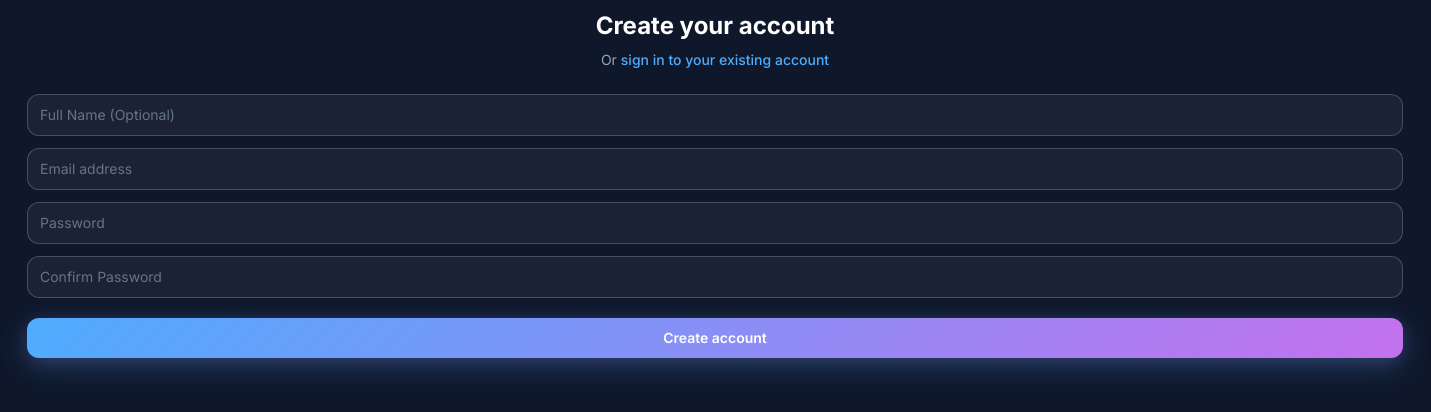
Scenario: Register › shows password mismatch error when passwords do not match
The width and height of the screenshot is (1431, 412).
In the password field with placeholder "Password": (715, 223) [27,202,1403,244], type "password123"
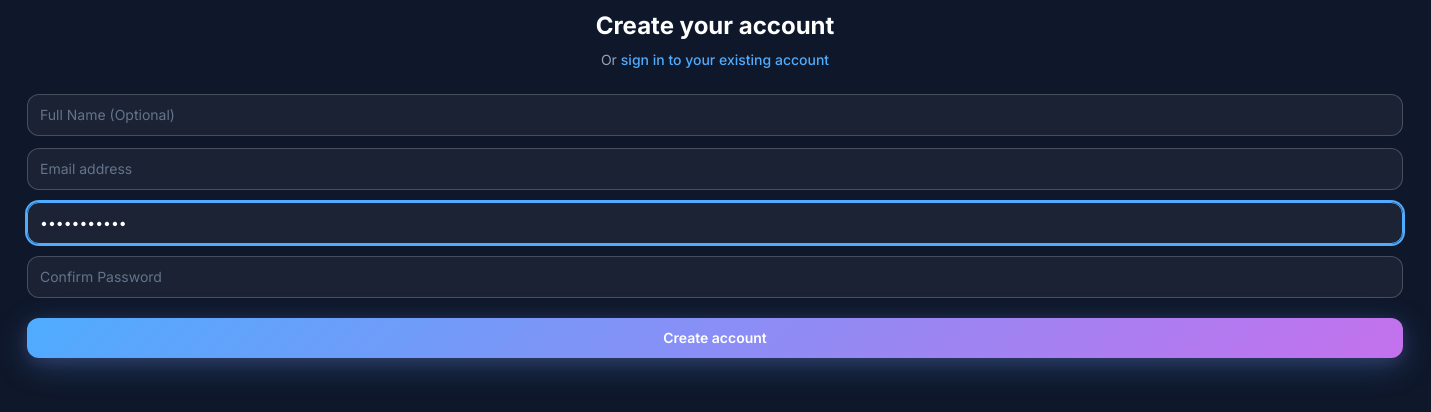
In the password field with placeholder "Confirm Password": (715, 277) [27,256,1403,298], type "different"
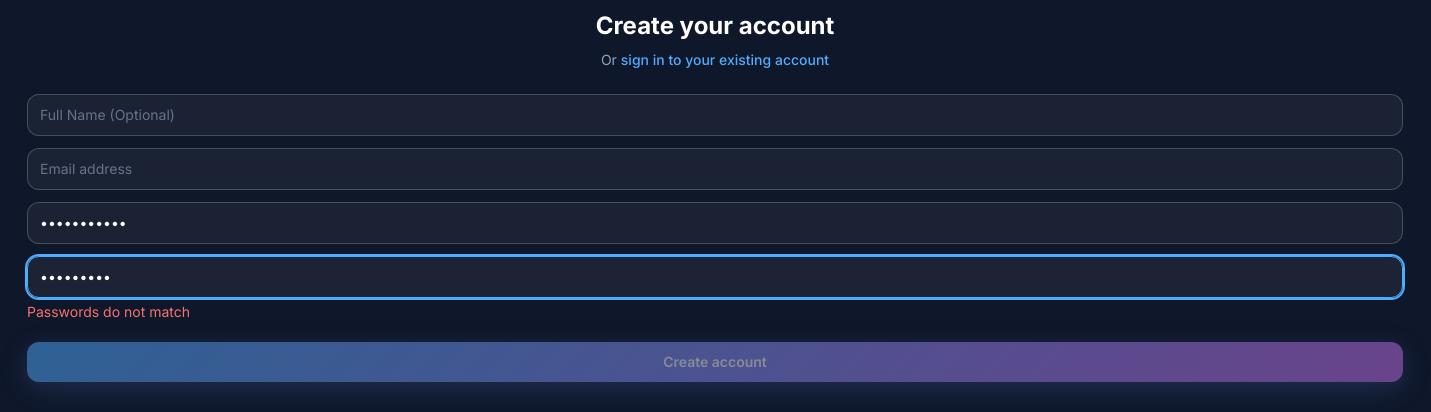
Expected: the text "Passwords do not match" is shown, [27,303,190,320]
